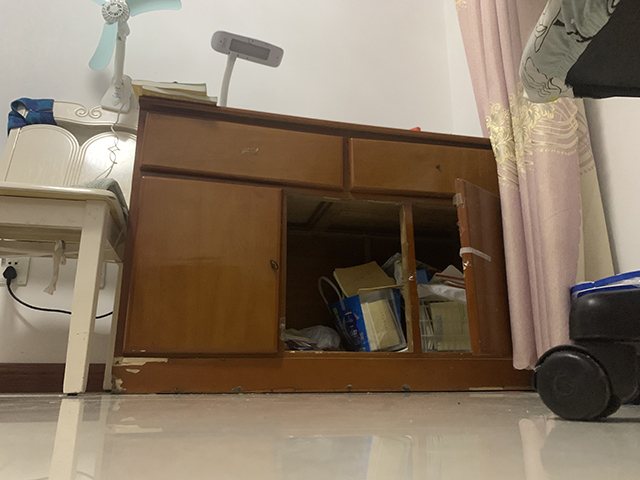cabinet: (141, 94, 487, 396)
curtain: (453, 1, 618, 373)
stool: (5, 91, 138, 397)
wire: (2, 267, 71, 314)
